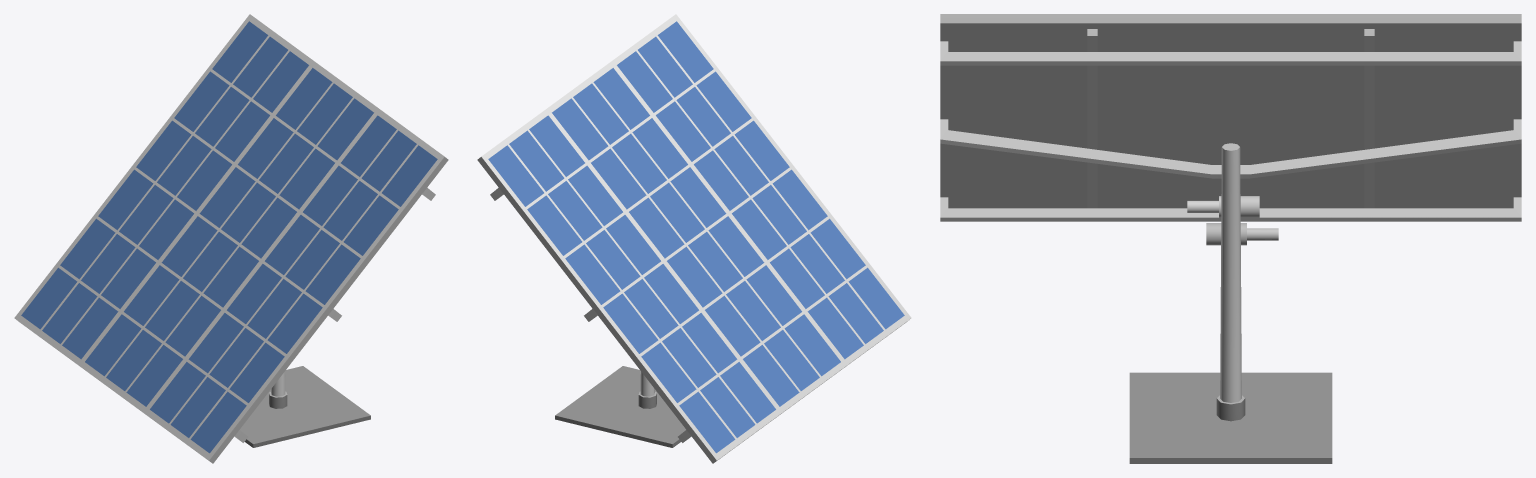
File: spanel.glb
The picture shows the model from 3 angles, left to right: view 1: azimuth 30°, elevation 25°; view 2: azimuth 150°, elevation 25°; view 3: azimuth 270°, elevation 25°; orthographic projection. The views are drawn at different scales.
Visible parts, largest first — view 1: Plane_003, Cylinder; view 2: Plane_003, Cylinder; view 3: Plane_003, Cylinder.
Part boxes in pixels (x1,y1,x2,y2): Plane_003: (14, 14, 448, 463); Cylinder: (240, 366, 370, 447); Plane_003: (477, 14, 911, 463); Cylinder: (555, 366, 685, 447); Plane_003: (940, 14, 1521, 221); Cylinder: (1129, 143, 1332, 463).
Size of the model in its own units: 1.26 by 1.54 by 1.77.
2 materials, 2 textured.
